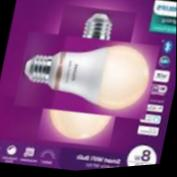Bulb: (24, 11, 148, 142)
